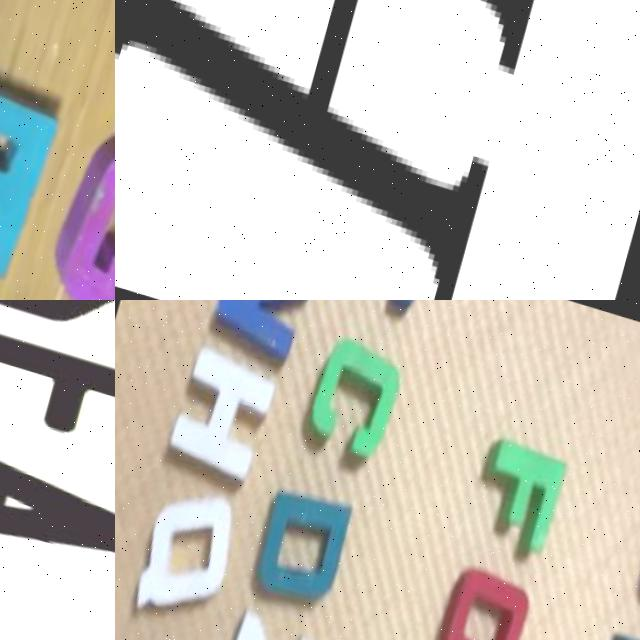A: (0, 425, 115, 585)
C: (299, 330, 407, 468)
D: (249, 482, 352, 608)
F: (0, 317, 115, 476), (473, 428, 571, 552)
G: (42, 131, 115, 300)
H: (115, 0, 489, 300), (160, 335, 281, 491)
M: (0, 60, 58, 279)
N: (207, 300, 325, 367)
O: (435, 562, 534, 640)
Q: (133, 484, 242, 629)
Z: (202, 600, 319, 640)
